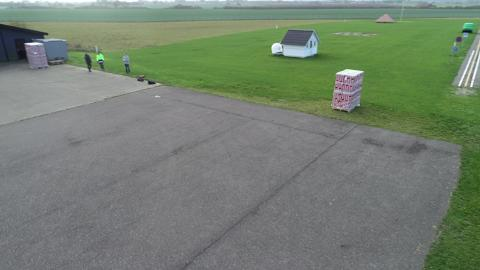RockwoolPallet: (23, 42, 49, 70)
